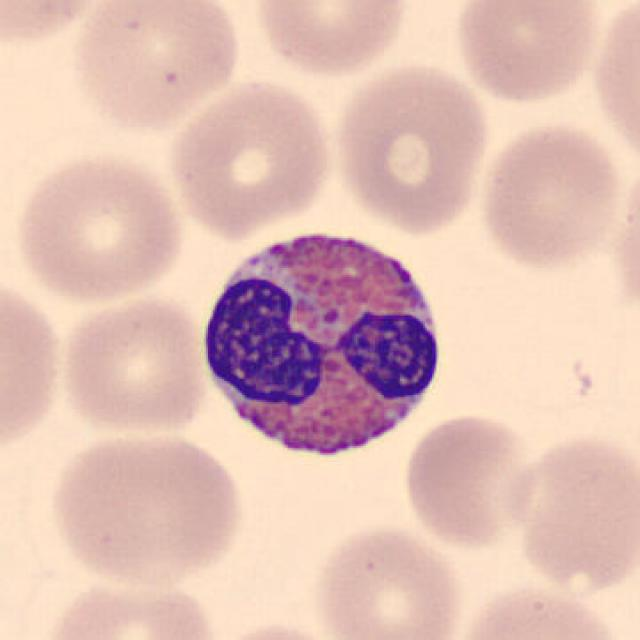Eosinophil: (192, 212, 453, 482)
RBC: (44, 427, 249, 590), (329, 58, 492, 238), (9, 146, 188, 307), (164, 76, 336, 240), (475, 116, 629, 274), (66, 0, 245, 134), (54, 291, 212, 437), (507, 428, 638, 598), (398, 411, 540, 550), (309, 522, 466, 640), (450, 0, 606, 108), (247, 0, 414, 79), (0, 268, 68, 462), (39, 576, 220, 640), (448, 582, 631, 640), (587, 0, 638, 173), (0, 0, 110, 51), (202, 619, 354, 640)
